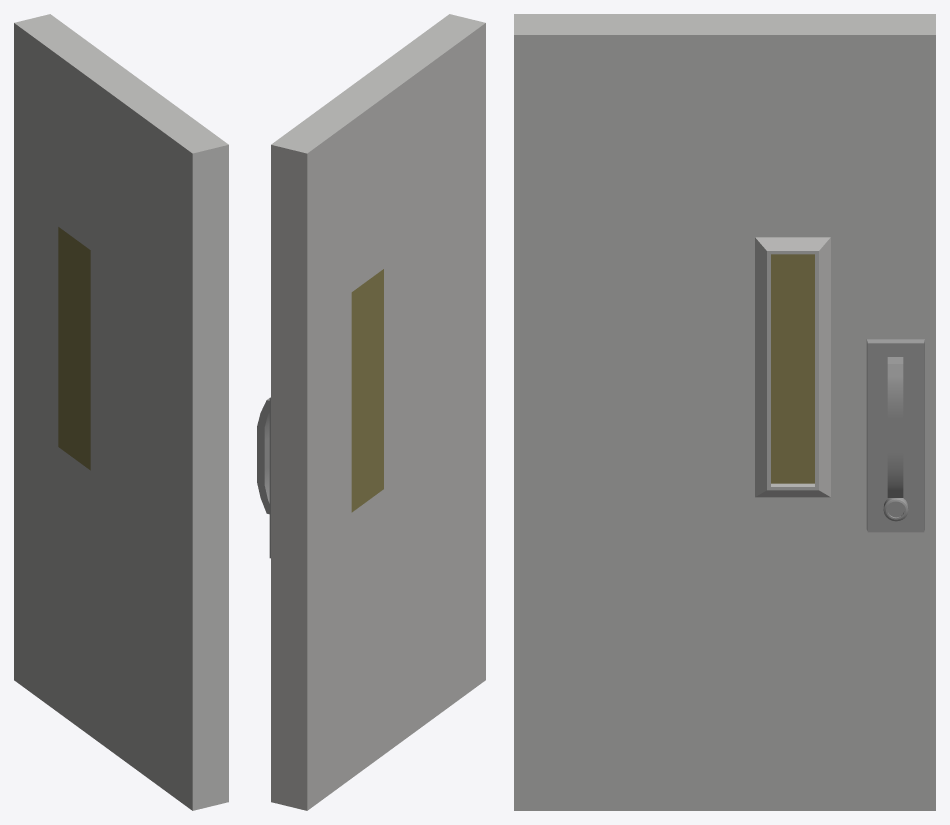
File: BlackroomDoor1.fbx
3 renders of one model, left to right at view 1: azimuth 30°, elevation 25°; view 2: azimuth 150°, elevation 25°; view 3: azimuth 270°, elevation 25°, orthographic. The views are drawn at different scales.
Visible parts, largest first — view 1: Door1; view 2: Door1; view 3: Door1.
Boxes of the visible parts, <box> form: Door1: <box>14,14,228,810</box>; Door1: <box>257,14,485,810</box>; Door1: <box>514,14,935,810</box>.
Bounding box in the file's own units: 32.7 × 321 × 158.
